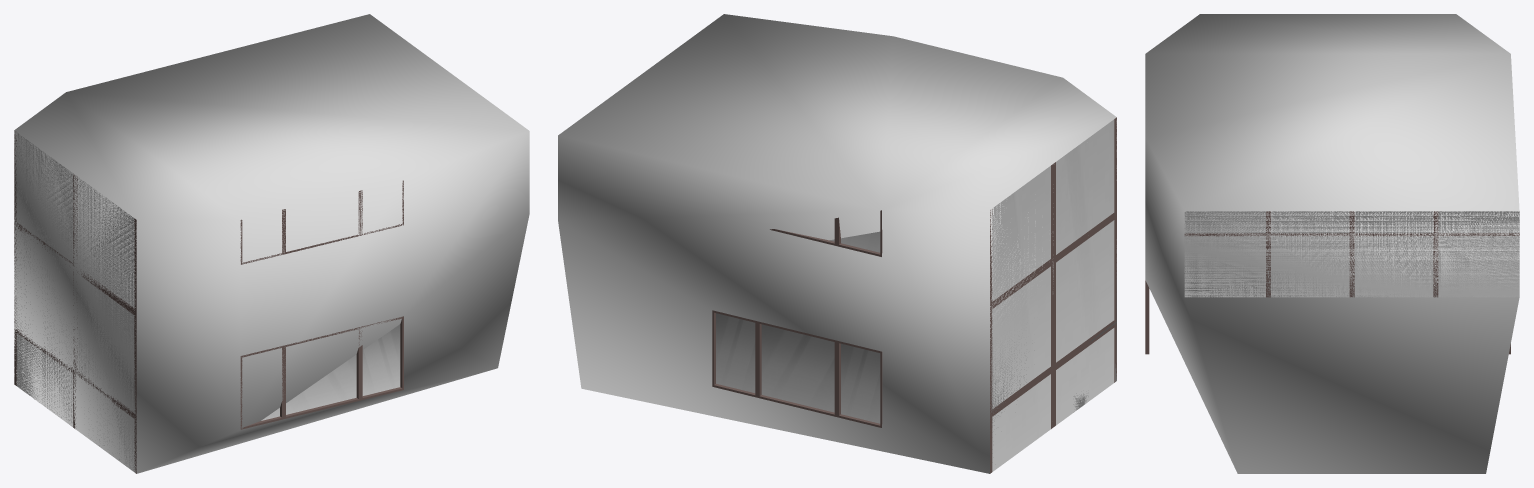
3 views of the same model, side by side, from view 1: azimuth 30°, elevation 25°; view 2: azimuth 150°, elevation 25°; view 3: azimuth 270°, elevation 25° (orthographic). The views are drawn at different scales.
Visible parts, largest first — view 1: struct_city_block_tall_tier1_a_01_col, struct_city_block_tall_tier1_a_01; view 2: struct_city_block_tall_tier1_a_01_col, struct_city_block_tall_tier1_a_01; view 3: struct_city_block_tall_tier1_a_01_col, struct_city_block_tall_tier1_a_01.
Boxes of the visible parts, x1=… form: struct_city_block_tall_tier1_a_01_col: x1=14, y1=14, x2=529, y2=473; struct_city_block_tall_tier1_a_01: x1=14, y1=130, x2=403, y2=473; struct_city_block_tall_tier1_a_01_col: x1=558, y1=14, x2=1116, y2=473; struct_city_block_tall_tier1_a_01: x1=712, y1=117, x2=1116, y2=473; struct_city_block_tall_tier1_a_01_col: x1=1145, y1=14, x2=1519, y2=473; struct_city_block_tall_tier1_a_01: x1=1145, y1=211, x2=1519, y2=354.
Bounding box in the file's own units: 8.82 × 5.55 × 7.08.
Materials: 2 (2 with a texture image).
